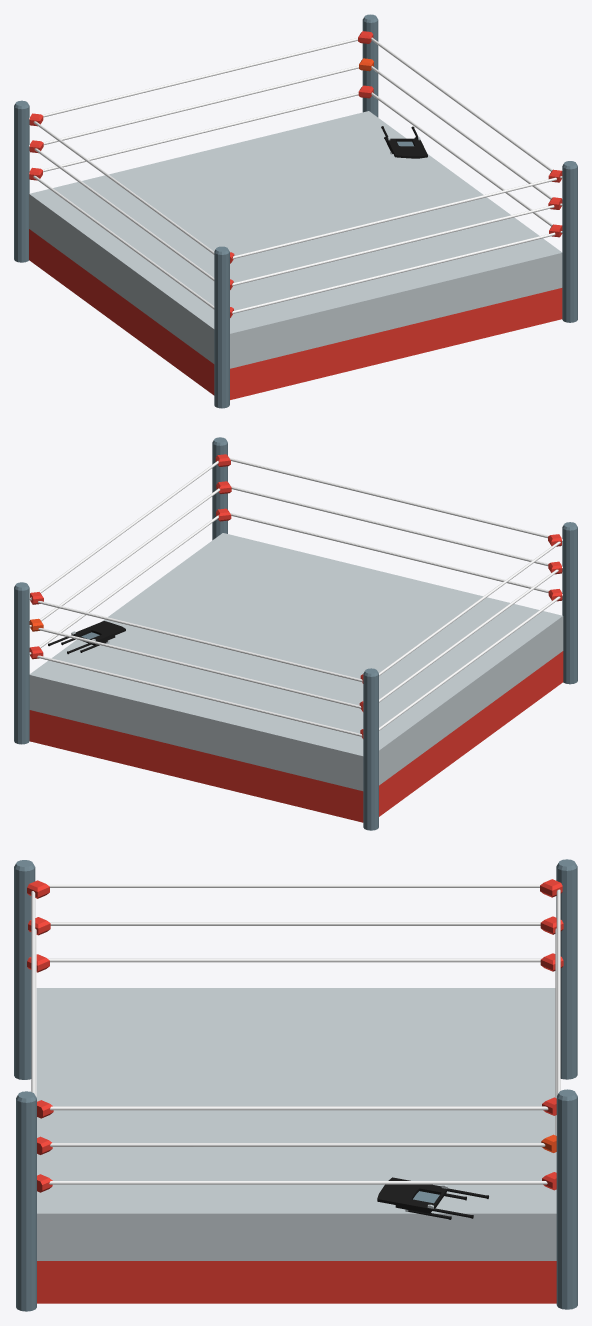
File: Foreign-Object-In-The-Ring.fbx
3 renders of one model, top to bottom at view 1: azimuth 30°, elevation 25°; view 2: azimuth 150°, elevation 25°; view 3: azimuth 270°, elevation 25°, orthographic. The views are drawn at different scales.
Visible parts, largest first — view 1: mesh_328789628, group_163412692, group_788371181, group_368896621, group_1642971909, mesh_21080103, mesh_317741549, mesh_1181248648, mesh_1003898359, mesh_496071842, mesh_916318022, group_1052058101 (+6 smaller); view 2: mesh_328789628, group_1642971909, group_368896621, group_788371181, group_163412692, mesh_916318022, mesh_1003898359, mesh_496071842, mesh_21080103, mesh_1181248648, mesh_317741549, group_1052058101 (+6 smaller); view 3: mesh_328789628, group_1642971909, group_163412692, group_788371181, group_368896621, mesh_1911749381, mesh_1593321500, group_1052058101, mesh_456450225, mesh_1821265527, mesh_927043435, mesh_1948876350 (+2 smaller).
Boxes of the visible parts, x1,y1,x2,y2 form: mesh_328789628: (29, 111, 562, 399); group_163412692: (548, 161, 577, 322); group_788371181: (14, 100, 43, 262); group_368896621: (214, 246, 234, 408); group_1642971909: (358, 14, 378, 117); mesh_21080103: (232, 177, 556, 258); mesh_317741549: (232, 232, 555, 313); mesh_1181248648: (232, 205, 554, 285); mesh_1003898359: (42, 38, 357, 117); mesh_496071842: (43, 65, 358, 144); mesh_916318022: (42, 92, 358, 172); group_1052058101: (381, 126, 427, 158); mesh_328789628: (29, 533, 563, 822); group_1642971909: (14, 582, 43, 744); group_368896621: (548, 522, 577, 684); group_788371181: (359, 668, 378, 830); group_163412692: (212, 437, 231, 540); mesh_916318022: (37, 655, 362, 736); mesh_1003898359: (38, 601, 362, 682); mesh_496071842: (38, 628, 361, 708); mesh_21080103: (229, 458, 548, 538); mesh_1181248648: (231, 486, 548, 566); mesh_317741549: (230, 513, 548, 593); group_1052058101: (48, 621, 125, 654); mesh_328789628: (36, 988, 556, 1303); group_1642971909: (541, 1089, 577, 1309); group_163412692: (16, 1091, 53, 1311); group_788371181: (540, 859, 577, 1079); group_368896621: (14, 860, 50, 1079); mesh_1911749381: (50, 1106, 548, 1110); mesh_1593321500: (48, 958, 541, 962); group_1052058101: (377, 1177, 488, 1219); mesh_456450225: (49, 1181, 547, 1184); mesh_1821265527: (50, 1143, 545, 1146); mesh_927043435: (47, 884, 540, 887); mesh_1948876350: (49, 922, 541, 925).
Bounding box in the file's own units: 753 × 310 × 742.
